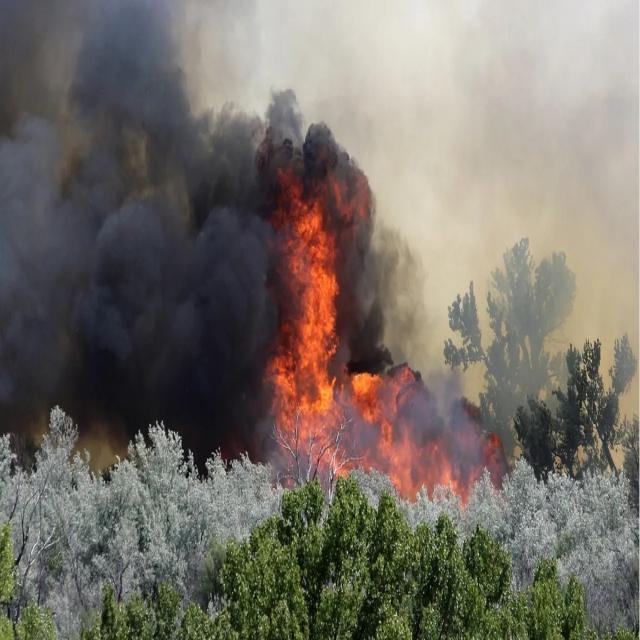Fire: (274, 198, 392, 456)
Smoke: (0, 0, 268, 455), (404, 73, 634, 504)
